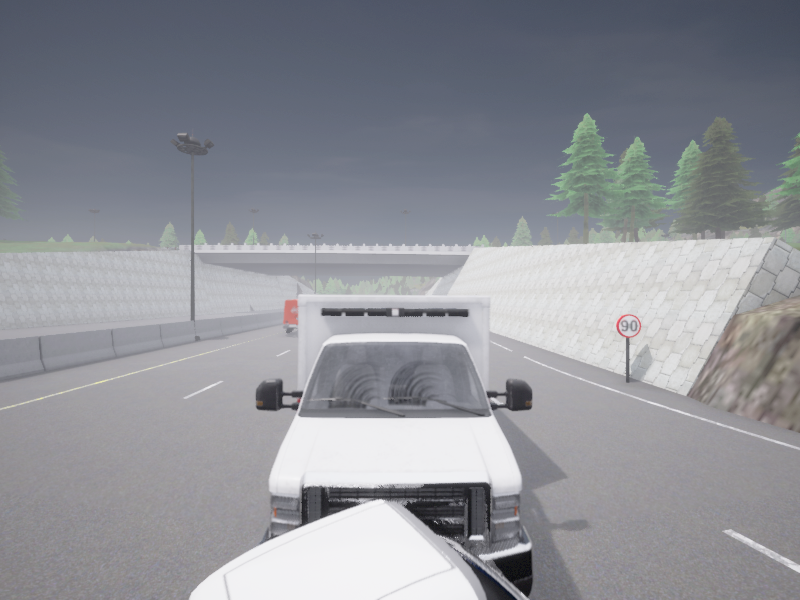vehicle: (255, 294, 532, 595), (187, 500, 528, 599), (283, 299, 298, 332)
